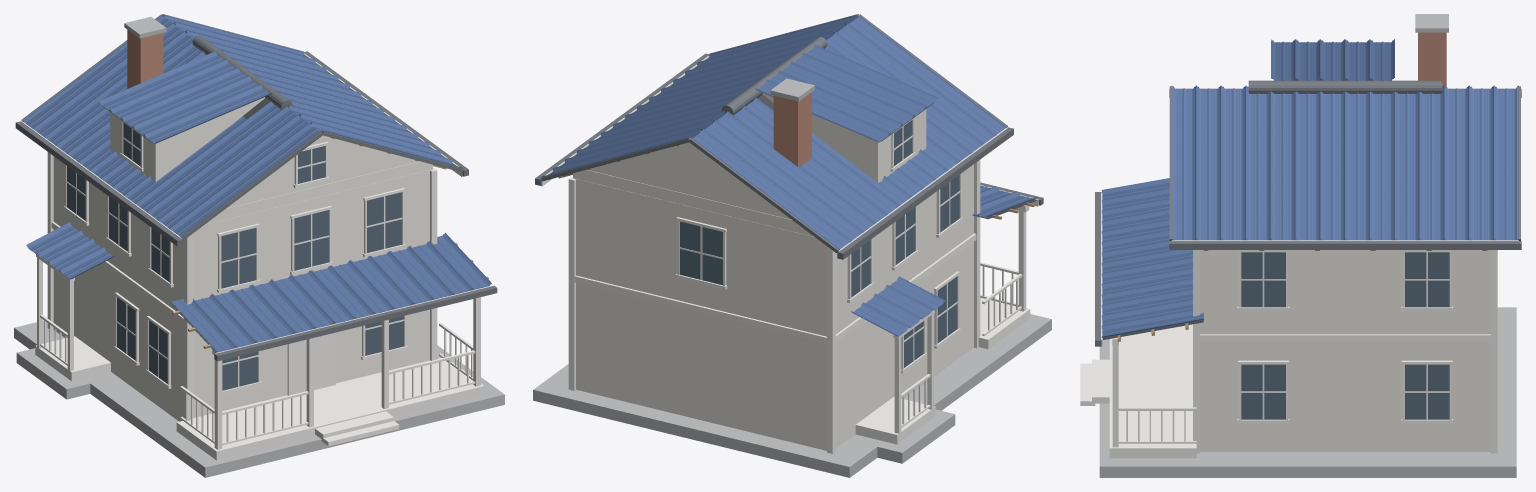
Rendered from Mega_S_Rib_Compact_Porch_House.glb.
3 views of the same model, side by side, from view 1: azimuth 30°, elevation 25°; view 2: azimuth 150°, elevation 25°; view 3: azimuth 270°, elevation 25° (orthographic). The views are drawn at different scales.
Visible parts, largest first — view 1: Main_Walls, Porch_Deck_Front, Foundation_Main, Gable_Wall_Front, Gable_Band_Front, RoofSheet_28, RoofSheet_27, RoofSheet_26, Gutter_Porch, RoofSheet_25, Door_Frame, Dormer_Cheek_Front (+77 smaller); view 2: Main_Walls, Foundation_Main, Gable_Wall_Back, SecondFloor_BandTrim, Gable_Band_Back, RoofSheet_15, RoofSheet_16, RoofSheet_17, RoofSheet_28, RoofSheet_27, Base_Chimney, Window_2F_Back (+54 smaller); view 3: Main_Walls, Foundation_Main, Porch_Deck_Front, RoofSheet_13, RoofSheet_01, RoofSheet_02, RoofSheet_03, RoofSheet_12, RoofSheet_11, RoofSheet_06, RoofSheet_08, RoofSheet_07 (+42 smaller).
Part boxes in pixels (left/top/right/bottom): Main_Walls: left=53, top=156, right=432, bottom=421; Porch_Deck_Front: left=176, top=357, right=484, bottom=460; Foundation_Main: left=14, top=320, right=504, bottom=477; Gable_Wall_Front: left=226, top=124, right=419, bottom=208; Gable_Band_Front: left=205, top=161, right=432, bottom=224; RoofSheet_28: left=170, top=123, right=320, bottom=237; RoofSheet_27: left=158, top=115, right=308, bottom=228; RoofSheet_26: left=147, top=106, right=297, bottom=220; Gutter_Porch: left=214, top=285, right=497, bottom=361; RoofSheet_25: left=135, top=101, right=286, bottom=212; Door_Frame: left=287, top=332, right=335, bottom=395; Dormer_Cheek_Front: left=158, top=97, right=264, bottom=179; Main_Walls: left=573, top=164, right=973, bottom=450; Foundation_Main: left=533, top=314, right=1051, bottom=477; Gable_Wall_Back: left=587, top=131, right=791, bottom=219; SecondFloor_BandTrim: left=574, top=233, right=976, bottom=343; Gable_Band_Back: left=573, top=169, right=814, bottom=236; RoofSheet_15: left=691, top=129, right=850, bottom=249; RoofSheet_16: left=703, top=120, right=862, bottom=241; RoofSheet_17: left=715, top=112, right=874, bottom=232; RoofSheet_28: left=848, top=15, right=1007, bottom=135; RoofSheet_27: left=836, top=23, right=995, bottom=144; Base_Chimney: left=773, top=92, right=811, bottom=166; Window_2F_Back: left=679, top=221, right=722, bottom=285; Main_Walls: left=1200, top=250, right=1490, bottom=451; Foundation_Main: left=1099, top=307, right=1516, bottom=477; Porch_Deck_Front: left=1109, top=324, right=1196, bottom=458; RoofSheet_13: left=1469, top=87, right=1494, bottom=240; RoofSheet_01: left=1171, top=87, right=1196, bottom=240; RoofSheet_02: left=1196, top=87, right=1221, bottom=240; RoofSheet_03: left=1221, top=87, right=1246, bottom=240; RoofSheet_12: left=1444, top=87, right=1469, bottom=240; RoofSheet_11: left=1419, top=87, right=1444, bottom=240; RoofSheet_06: left=1295, top=91, right=1320, bottom=240; RoofSheet_08: left=1345, top=91, right=1370, bottom=240; RoofSheet_07: left=1320, top=91, right=1345, bottom=240.
Bounding box in the file's own units: 8.2 × 7.71 × 8.89.
